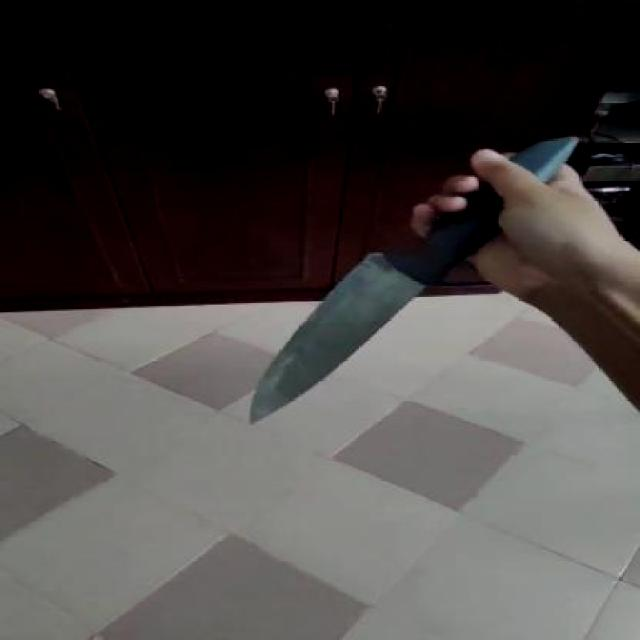knife: (219, 259, 463, 426)
